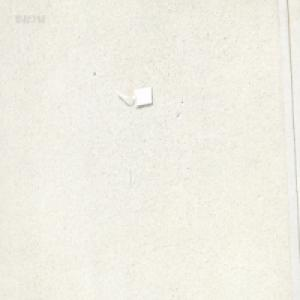LuggageTag: (114, 85, 153, 109)
